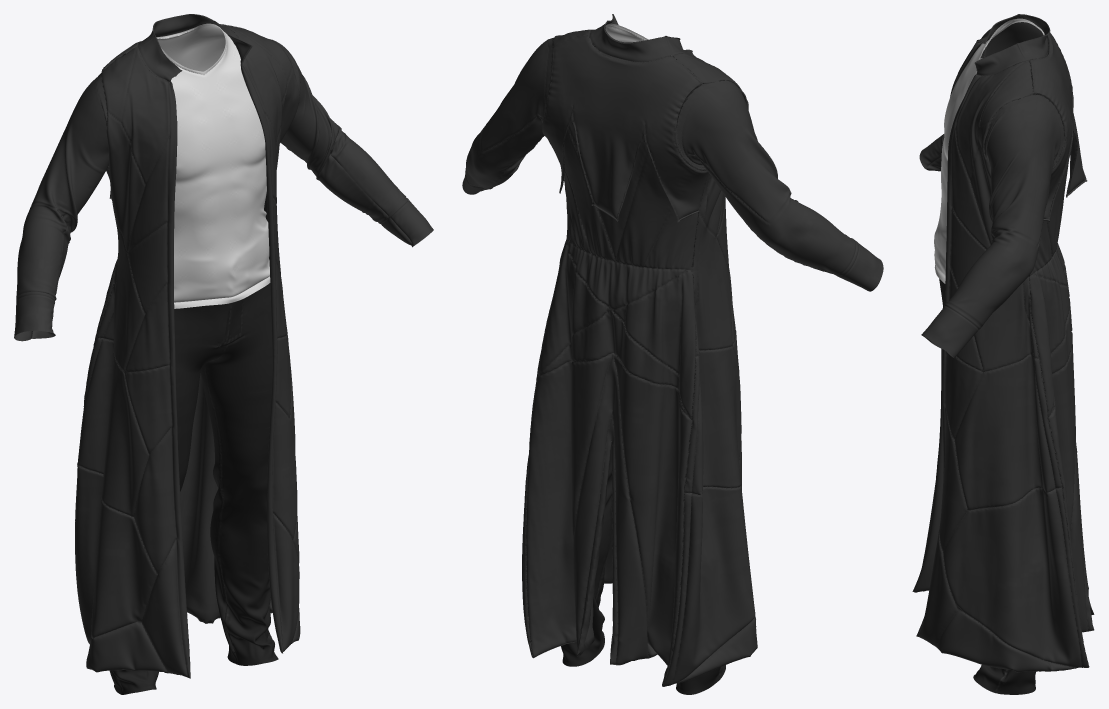
Rendered from blacksuit-transformed.glb.
3 renders of one model, left to right at view 1: azimuth 30°, elevation 25°; view 2: azimuth 150°, elevation 25°; view 3: azimuth 270°, elevation 25°, orthographic. The views are drawn at different scales.
Parts seen in each view (by area): view 1: jcet_lambert1_0; view 2: jcet_lambert1_0; view 3: jcet_lambert1_0.
Part boxes in pixels (<box>): jcet_lambert1_0: <box>14,14,433,694</box>; jcet_lambert1_0: <box>462,14,883,694</box>; jcet_lambert1_0: <box>912,14,1094,694</box>.
Size of the model in its own units: 1.04 by 1.54 by 0.4013.
1 material, 1 textured.
